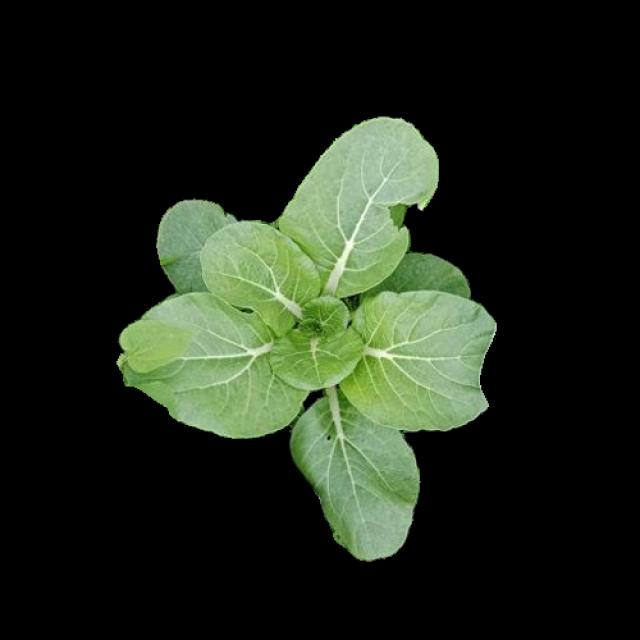not-mature: (115, 120, 494, 561)
unhealthy: (278, 119, 439, 292), (293, 402, 419, 558)
